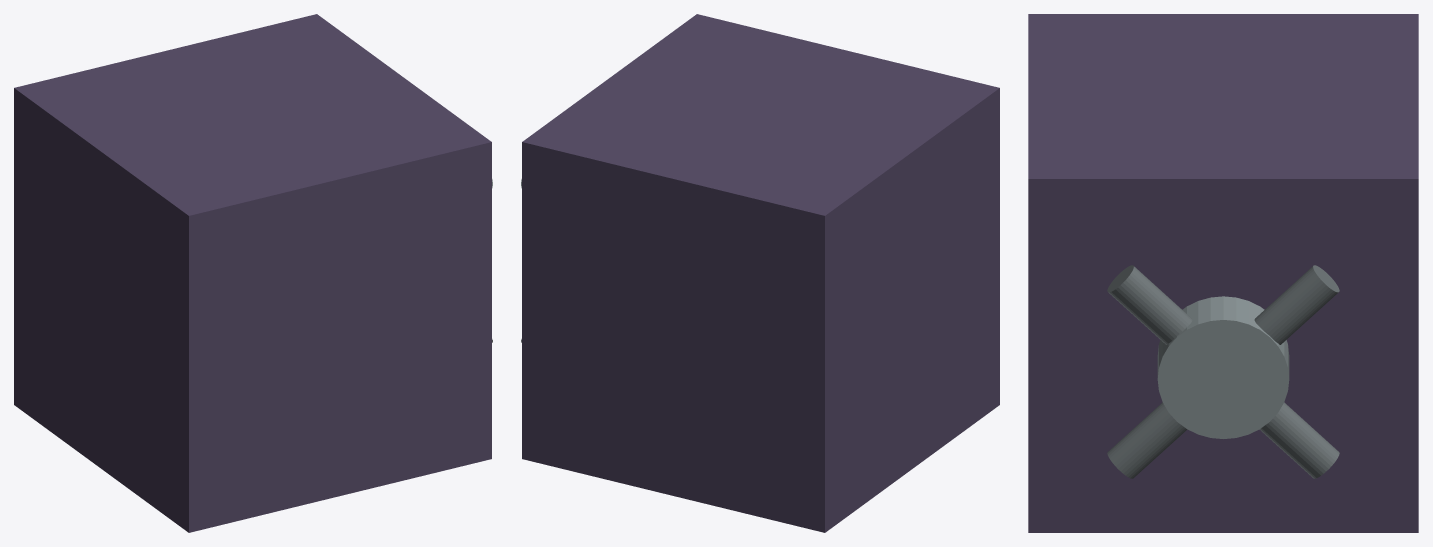
The model's file is Tresor.fbx.
3 views of the same model, side by side, from view 1: azimuth 30°, elevation 25°; view 2: azimuth 150°, elevation 25°; view 3: azimuth 270°, elevation 25° (orthographic). The views are drawn at different scales.
Parts seen in each view (by area): view 1: Cube; view 2: Cube; view 3: Cube, Cylinder, Cylinder.001, Cylinder.002.
Part boxes in pixels (left/top/right/bottom): Cube: left=14, top=14, right=491, bottom=532; Cube: left=522, top=14, right=999, bottom=532; Cube: left=1028, top=14, right=1418, bottom=532; Cylinder: left=1157, top=296, right=1289, bottom=438; Cylinder.001: left=1107, top=265, right=1339, bottom=478; Cylinder.002: left=1107, top=265, right=1339, bottom=478.
Bounding box in the file's own units: 678 × 593 × 593.
